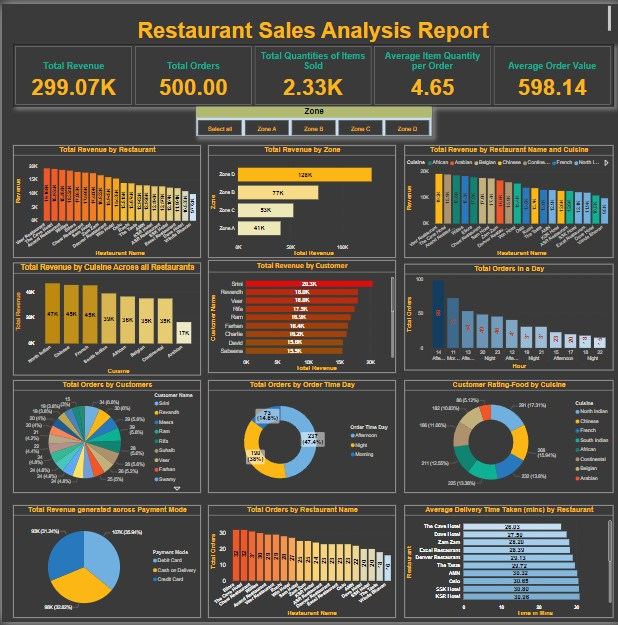

The page's visual inventory and layout, read from the dashboard file:
{"tool":"powerbi","page":{"name":"Page 1","canvas":[1650,1650],"ordinal":0},"visuals":[{"type":"cardVisual","fields":{"Data":["Orders Data.Total Revenue","Orders Data.Total Orders","Orders Data.Total Quantity of Items Sold","Orders Data.Average Item Quantity per Order","Orders Data.Average Order Value"]},"box":[28.3,106.7,1601.7,166.7],"z":0},{"type":"clusteredColumnChart","title":"Total Revenue by Restaurant","fields":{"Category":["Restaurant Details.RestaurantName"],"Y":["Orders Data.Total Revenue"]},"box":[28.9,375.6,500,300],"z":1000},{"type":"clusteredBarChart","fields":{"Category":["Restaurant Details.Zone"],"Y":["Orders Data.Total Revenue"]},"box":[550,375.6,500,300],"z":2000},{"type":"columnChart","title":"Total Revenue by Restaurant Name and Cuisine","fields":{"Category":["Restaurant Details.RestaurantName"],"Series":["Restaurant Details.Cuisine"],"Y":["Orders Data.Total Revenue"]},"box":[1074.4,375.6,556.7,300],"z":3000},{"type":"columnChart","title":"Total Revenue by Cuisine Across all Restaurants","fields":{"Category":["Restaurant Details.Cuisine"],"Y":["Orders Data.Total Revenue"]},"box":[28.8,691.2,500,300],"z":4000},{"type":"clusteredBarChart","title":"Total Revenue by Customer ","fields":{"Category":["Orders Data.Customer Name"],"Y":["Orders Data.Total Revenue"]},"box":[550,683.3,500,300],"z":5000},{"type":"advancedSlicerVisual","fields":{"Values":["Restaurant Details.Zone"]},"box":[515,273.3,630,80],"z":6000},{"type":"pieChart","title":"Total Orders by Customers","fields":{"Category":["Orders Data.Customer Name"],"Y":["Orders Data.Total Orders"]},"box":[28.9,1004.4,500,300],"z":7000},{"type":"columnChart","title":"Total Orders in a Day","fields":{"Category":["Orders Data.Order Time Day","Orders Data.Hour"],"Y":["Orders Data.Total Orders"]},"box":[1073.3,691.7,556.7,283.3],"z":8000},{"type":"donutChart","fields":{"Y":["Orders Data.Total Orders"],"Category":["Orders Data.Order Time Day"]},"box":[550,1004.4,500,300],"z":9000},{"type":"donutChart","title":"Customer Rating-Food by Cuisine","fields":{"Category":["Restaurant Details.Cuisine"],"Y":["Orders Data.Customer Rating-Food"]},"box":[1073.3,1004.4,556.7,300],"z":10000},{"type":"clusteredColumnChart","title":"Total Orders by Restaurant Name","fields":{"Category":["Restaurant Details.RestaurantName"],"Y":["Orders Data.Total Orders"]},"box":[550,1335,500,300],"z":11000},{"type":"textbox","box":[37.5,0,1592.5,106.2],"z":12000},{"type":"pieChart","title":"Total Revenue generated across Payment Mode","fields":{"Category":["Orders Data.Payment Mode"],"Y":["Orders Data.Total Revenue"]},"box":[28.3,1335,500,300],"z":13000},{"type":"clusteredBarChart","title":"Average Delivery Time Taken (mins) by Restaurant","fields":{"Category":["Restaurant Details.RestaurantName"],"Y":["Orders Data.Delivery Time Taken (mins)"]},"box":[1073,1335,557,300],"z":14000}]}

Visuals, with their boxes in screenshot pixels (x1, y1, x2, y2), scaled from the page's 1650x1650 canvas onto the 618x625 screenshot:
cardVisual - Orders Data.Total Revenue x Orders Data.Total Orders: <region>11, 40, 611, 104</region>
"Total Revenue by Restaurant" clusteredColumnChart: <region>11, 142, 198, 256</region>
clusteredBarChart - Restaurant Details.Zone x Orders Data.Total Revenue: <region>206, 142, 393, 256</region>
"Total Revenue by Restaurant Name and Cuisine" columnChart: <region>402, 142, 611, 256</region>
"Total Revenue by Cuisine Across all Restaurants" columnChart: <region>11, 262, 198, 375</region>
"Total Revenue by Customer " clusteredBarChart: <region>206, 259, 393, 372</region>
advancedSlicerVisual - Restaurant Details.Zone: <region>193, 104, 429, 134</region>
"Total Orders by Customers" pieChart: <region>11, 380, 198, 494</region>
"Total Orders in a Day" columnChart: <region>402, 262, 611, 369</region>
donutChart - Orders Data.Total Orders x Orders Data.Order Time Day: <region>206, 380, 393, 494</region>
"Customer Rating-Food by Cuisine" donutChart: <region>402, 380, 611, 494</region>
"Total Orders by Restaurant Name" clusteredColumnChart: <region>206, 506, 393, 619</region>
textbox: <region>14, 0, 611, 40</region>
"Total Revenue generated across Payment Mode" pieChart: <region>11, 506, 198, 619</region>
"Average Delivery Time Taken (mins) by Restaurant" clusteredBarChart: <region>402, 506, 611, 619</region>
